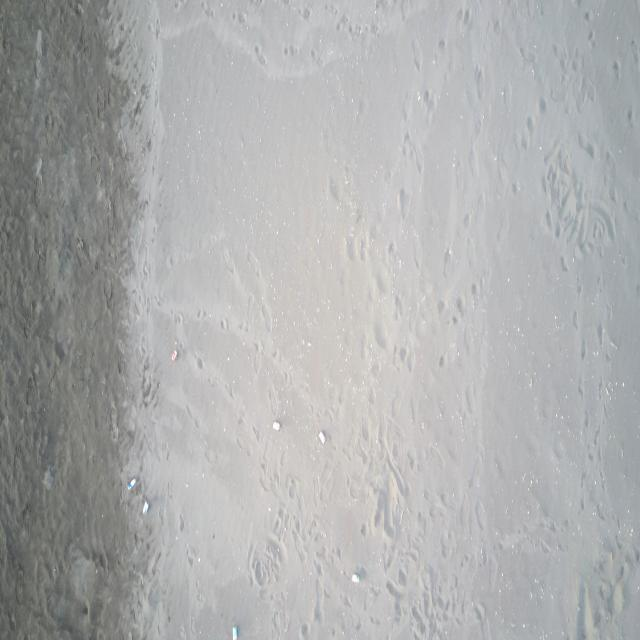tin-and-aluminum-cans: (126, 477, 137, 491), (318, 429, 327, 444), (272, 420, 282, 432), (142, 499, 149, 515), (172, 350, 179, 363), (352, 572, 360, 583), (232, 624, 237, 640)
